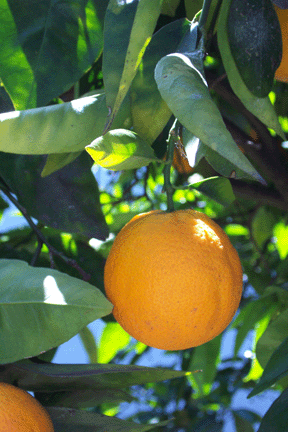orange: (100, 207, 245, 353)
